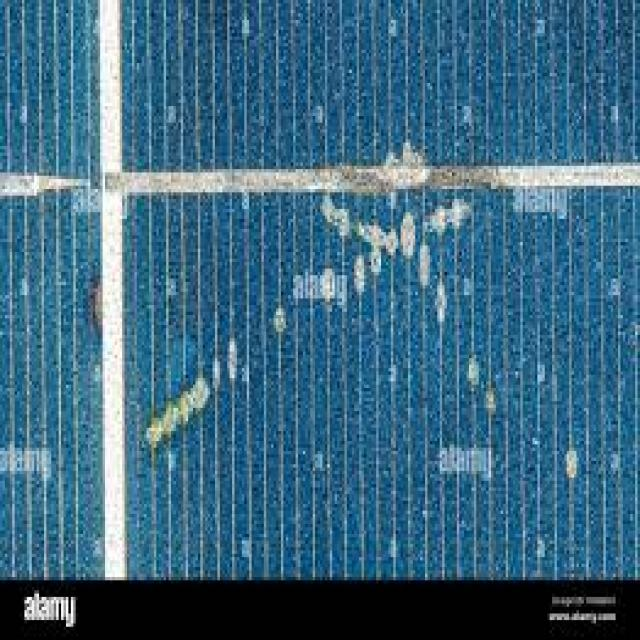faulty: (15, 0, 632, 575)
